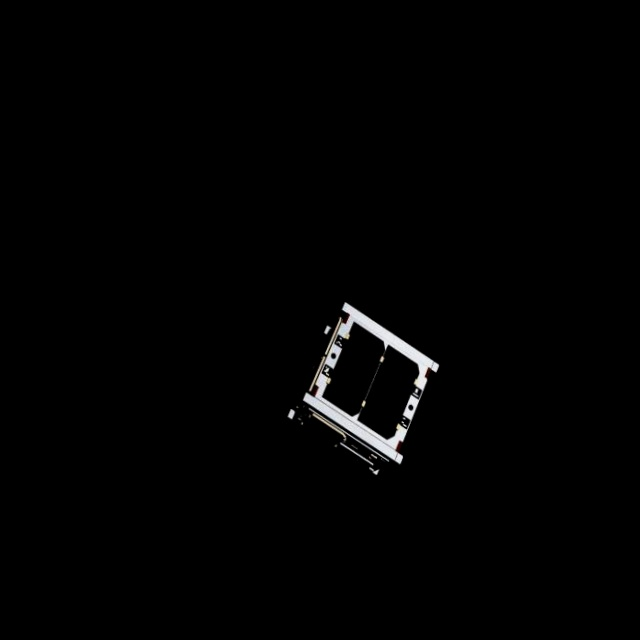medium_debris: (272, 299, 447, 481)
